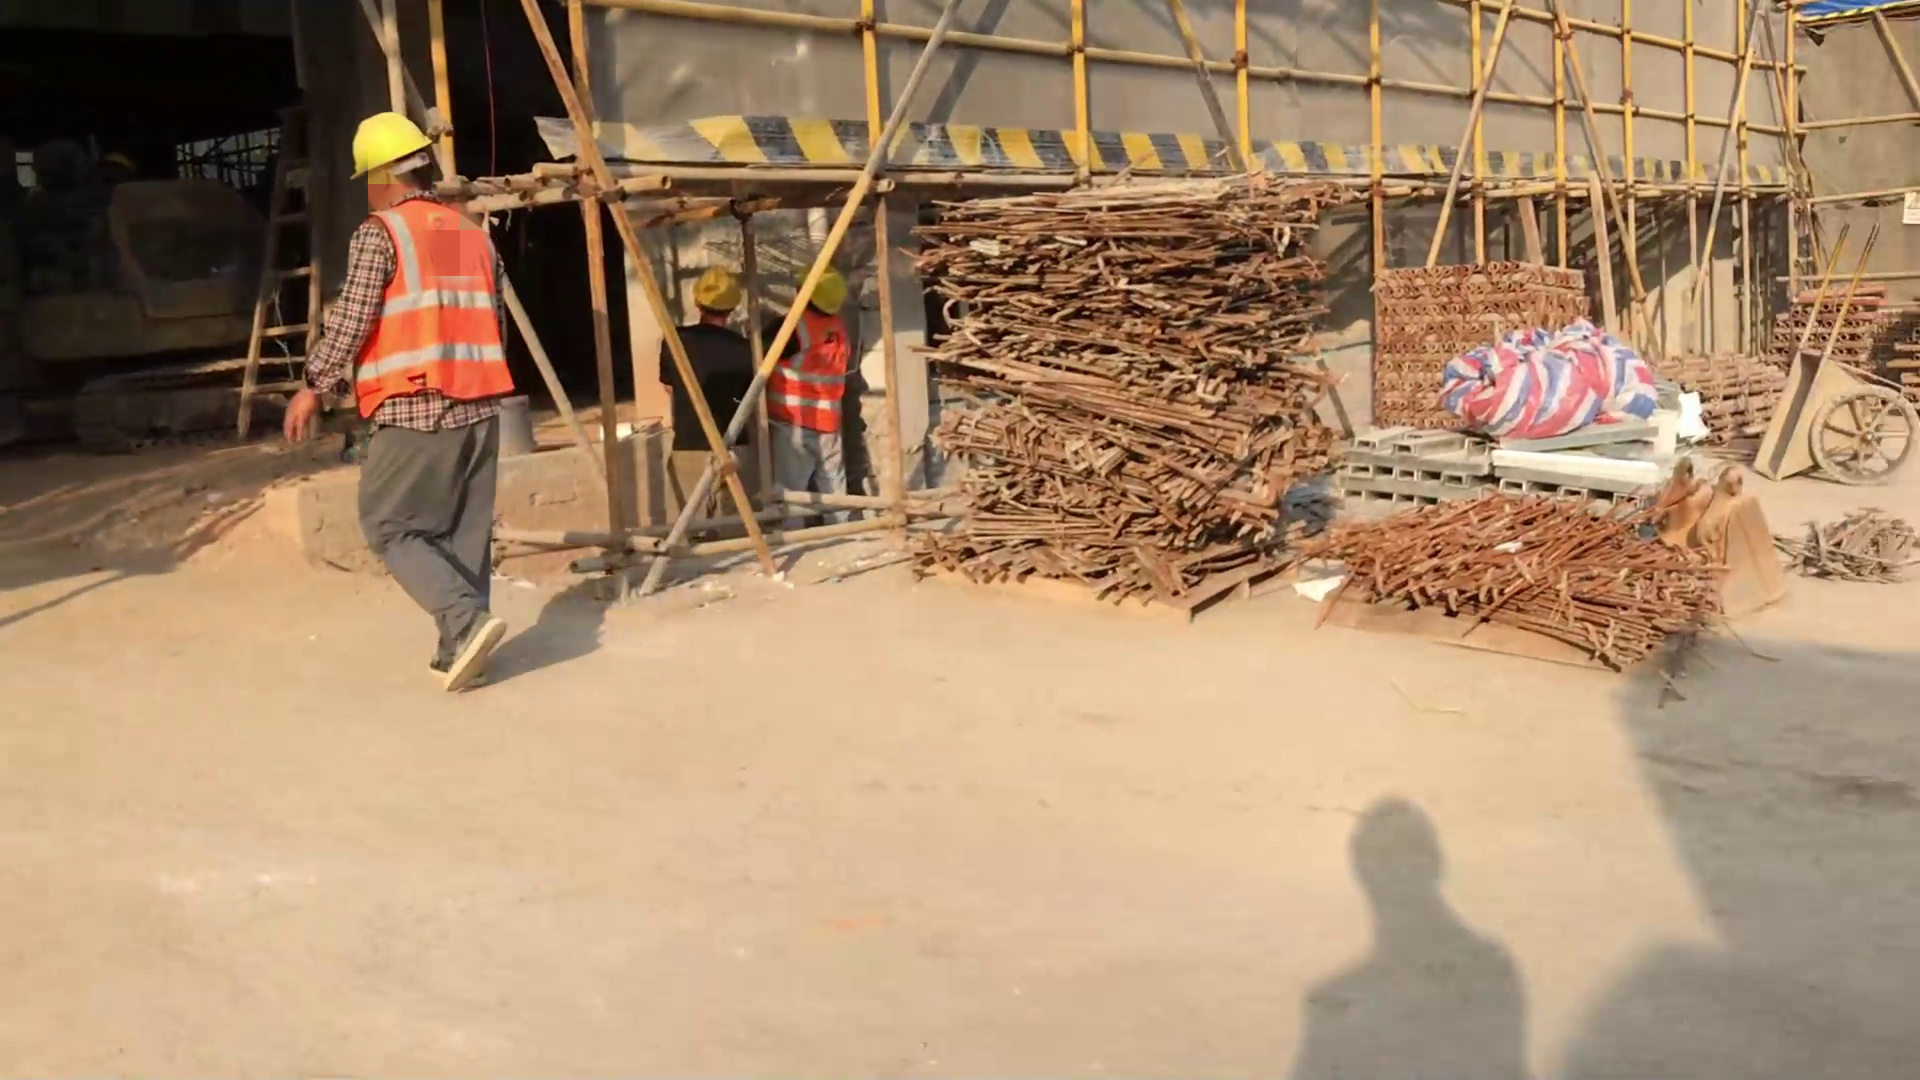handcart: (1748, 218, 1920, 490)
helmet: (349, 111, 435, 190), (792, 263, 849, 320), (691, 263, 746, 313), (97, 144, 138, 178)
person: (280, 108, 518, 699), (654, 262, 754, 546), (760, 263, 857, 536)
scaffold: (1367, 257, 1585, 429), (1651, 344, 1785, 449)
slogan: (1902, 191, 1920, 223)
vest: (345, 195, 518, 419), (764, 312, 853, 437)
